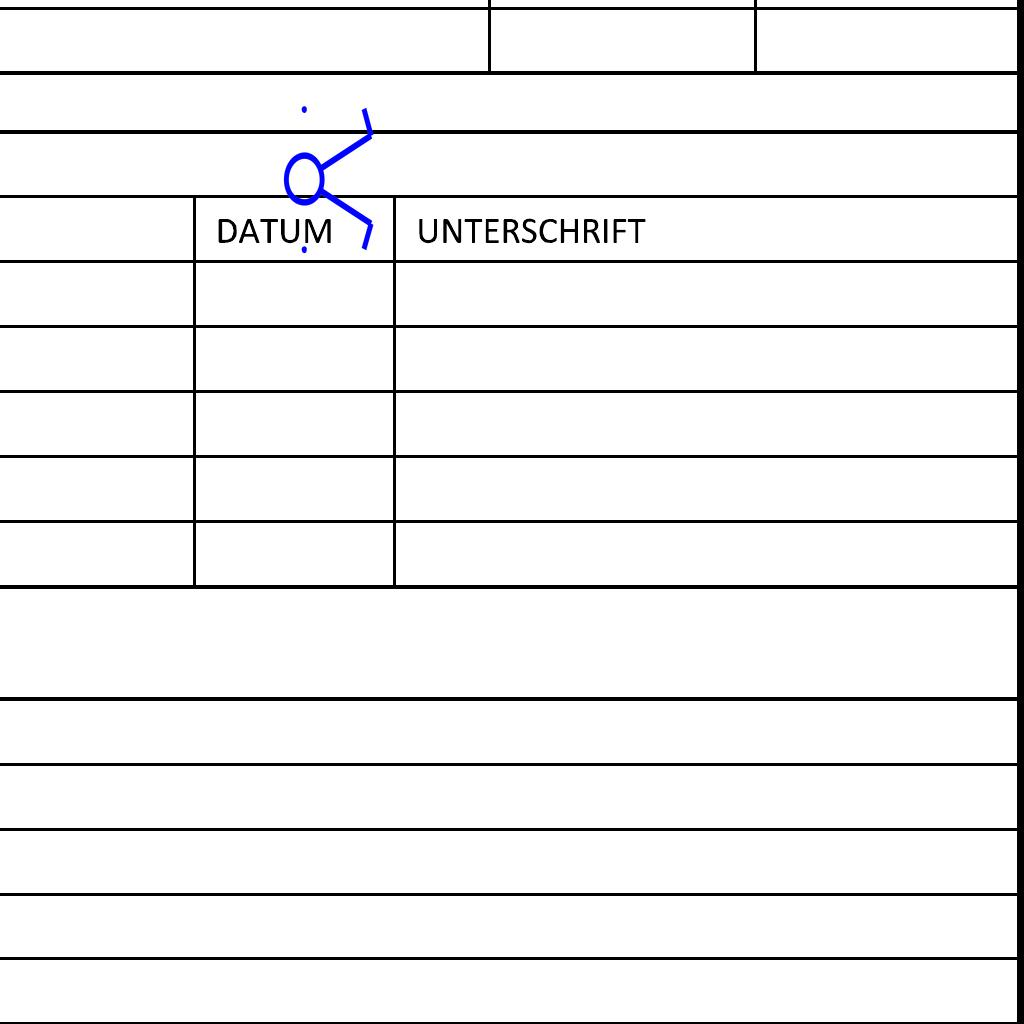Serienschalter: (282, 94, 378, 262)
